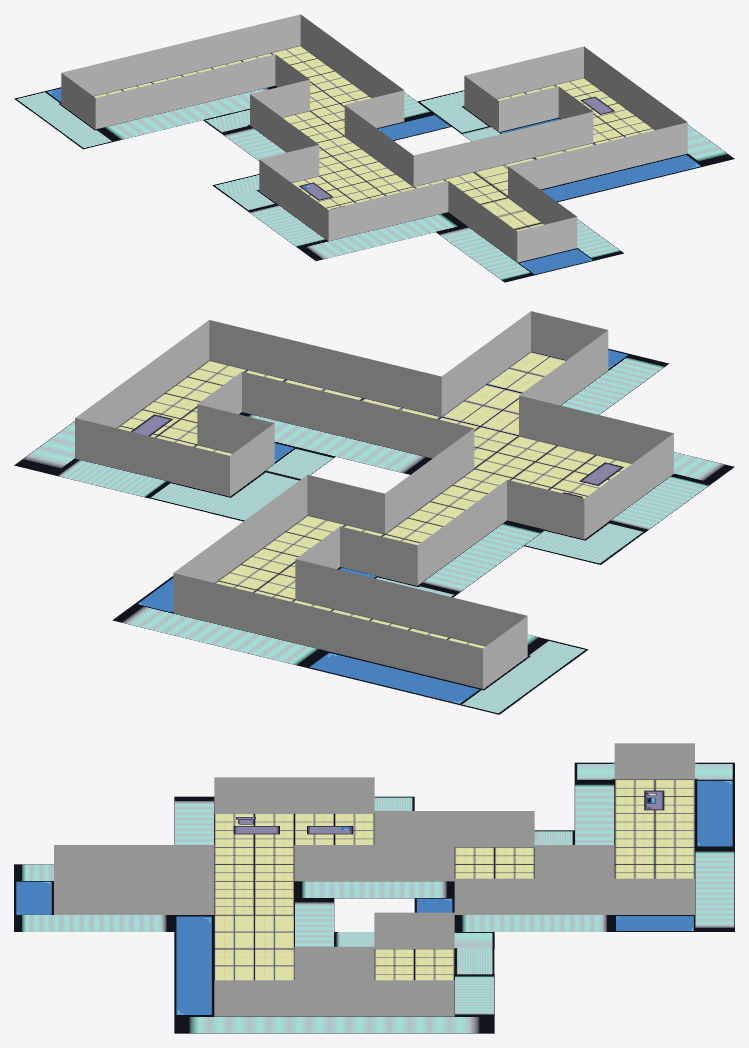
The model's file is map1.fbx.
The picture shows the model from 3 angles, top to bottom: view 1: azimuth 30°, elevation 25°; view 2: azimuth 150°, elevation 25°; view 3: azimuth 270°, elevation 25°; orthographic projection. The views are drawn at different scales.
Visible parts, largest first — view 1: Plane.001, Plane, Plane.004, Plane.008, Plane.015, Plane.025, Plane.024, Plane.017, Plane.023, Plane.003, Plane.016, Plane.018 (+6 smaller); view 2: Plane.001, Plane, Plane.007, Plane.010, Plane.003, Plane.005, Plane.017, Plane.025, Plane.023, Plane.024, Plane.022, Plane.018 (+5 smaller); view 3: Plane.001, Plane, Plane.009, Plane.015, Plane.007, Plane.002, Plane.010, Plane.006, Plane.026, Plane.004, Plane.005, Plane.008 (+11 smaller).
Boxes of the visible parts, x1,y1,x2,y2 form: Plane.001: [61, 14, 687, 262]; Plane: [93, 45, 655, 231]; Plane.004: [96, 85, 277, 141]; Plane.008: [299, 212, 465, 260]; Plane.015: [540, 153, 704, 202]; Plane.025: [436, 225, 533, 282]; Plane.024: [247, 203, 327, 248]; Plane.017: [417, 90, 489, 132]; Plane.023: [212, 174, 275, 210]; Plane.003: [220, 125, 286, 160]; Plane.016: [518, 248, 594, 275]; Plane.018: [14, 91, 77, 123]; Plane.001: [75, 311, 673, 688]; Plane: [117, 351, 631, 648]; Plane.007: [112, 604, 327, 667]; Plane.010: [306, 651, 482, 705]; Plane.003: [418, 520, 545, 594]; Plane.005: [239, 412, 432, 474]; Plane.017: [150, 472, 298, 521]; Plane.025: [561, 354, 668, 414]; Plane.023: [523, 523, 644, 564]; Plane.024: [607, 474, 712, 532]; Plane.022: [53, 458, 171, 498]; Plane.018: [461, 672, 543, 714]; Plane.001: [54, 743, 694, 1016]; Plane: [214, 779, 694, 980]; Plane.009: [174, 1016, 494, 1033]; Plane.015: [174, 915, 214, 1016]; Plane.007: [695, 847, 734, 931]; Plane.002: [294, 881, 454, 898]; Plane.010: [695, 779, 734, 847]; Plane.006: [454, 915, 614, 931]; Plane.026: [14, 915, 174, 931]; Plane.004: [574, 779, 614, 844]; Plane.005: [294, 898, 334, 946]; Plane.008: [174, 796, 214, 844].
Bounding box in the file's own units: 3200 × 200 × 3600.
